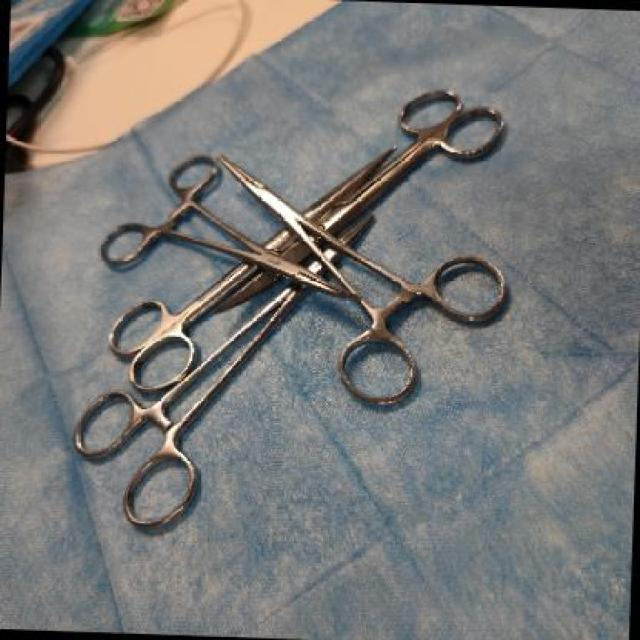tools_table: (62, 76, 524, 548)
